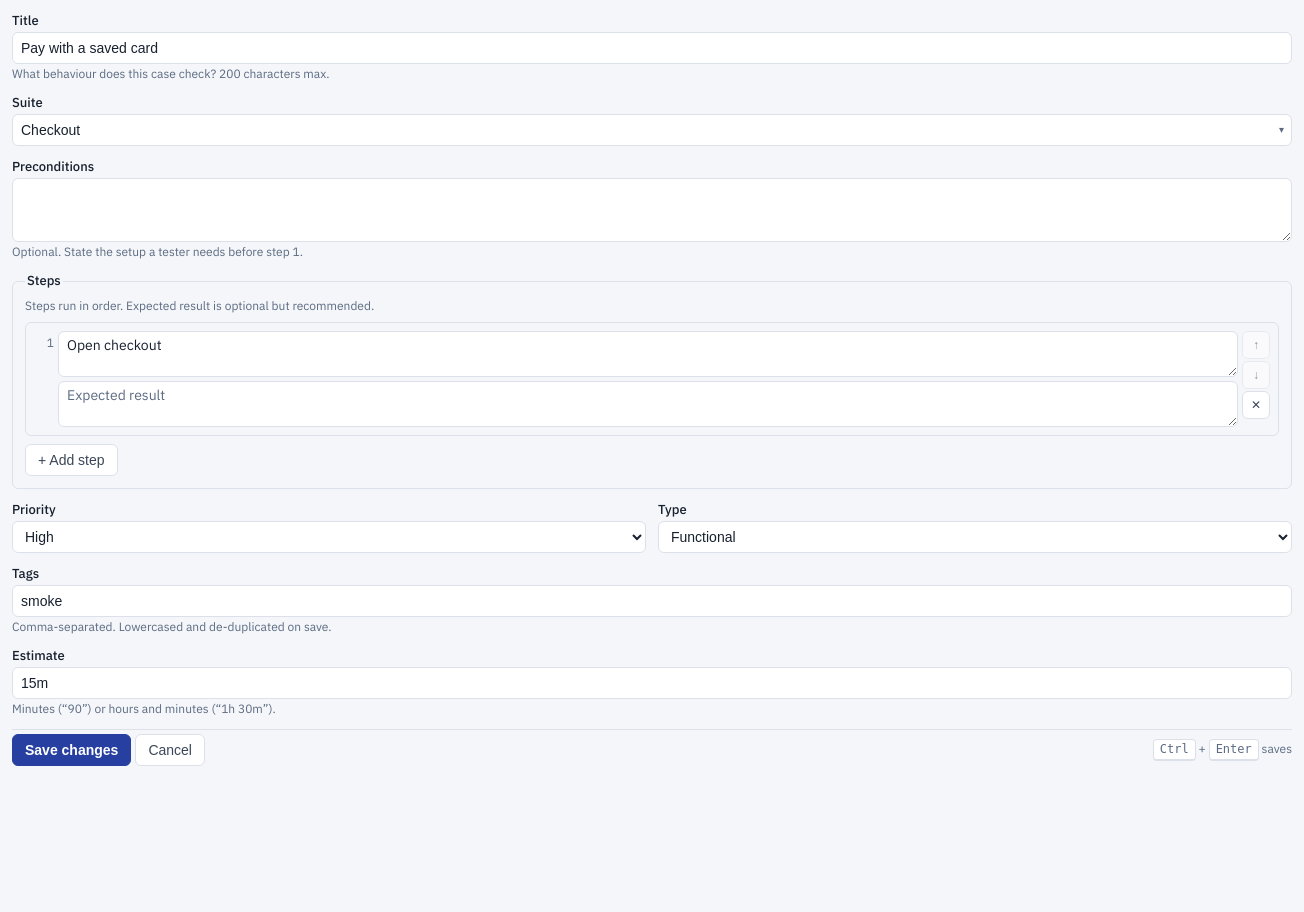
Scenario: CaseEditor › prefills in edit mode and refuses an unchanged save
Check: the field labelled "Title" holds "Pay with a saved card", box [12,32,1292,64]
Check: the field labelled "Tags" holds "smoke", box [12,585,1292,617]
What coordinates should you click on to do the following:
click the button "Save changes"
I would click on:
 (72, 750)
Its box is [12,734,131,766].
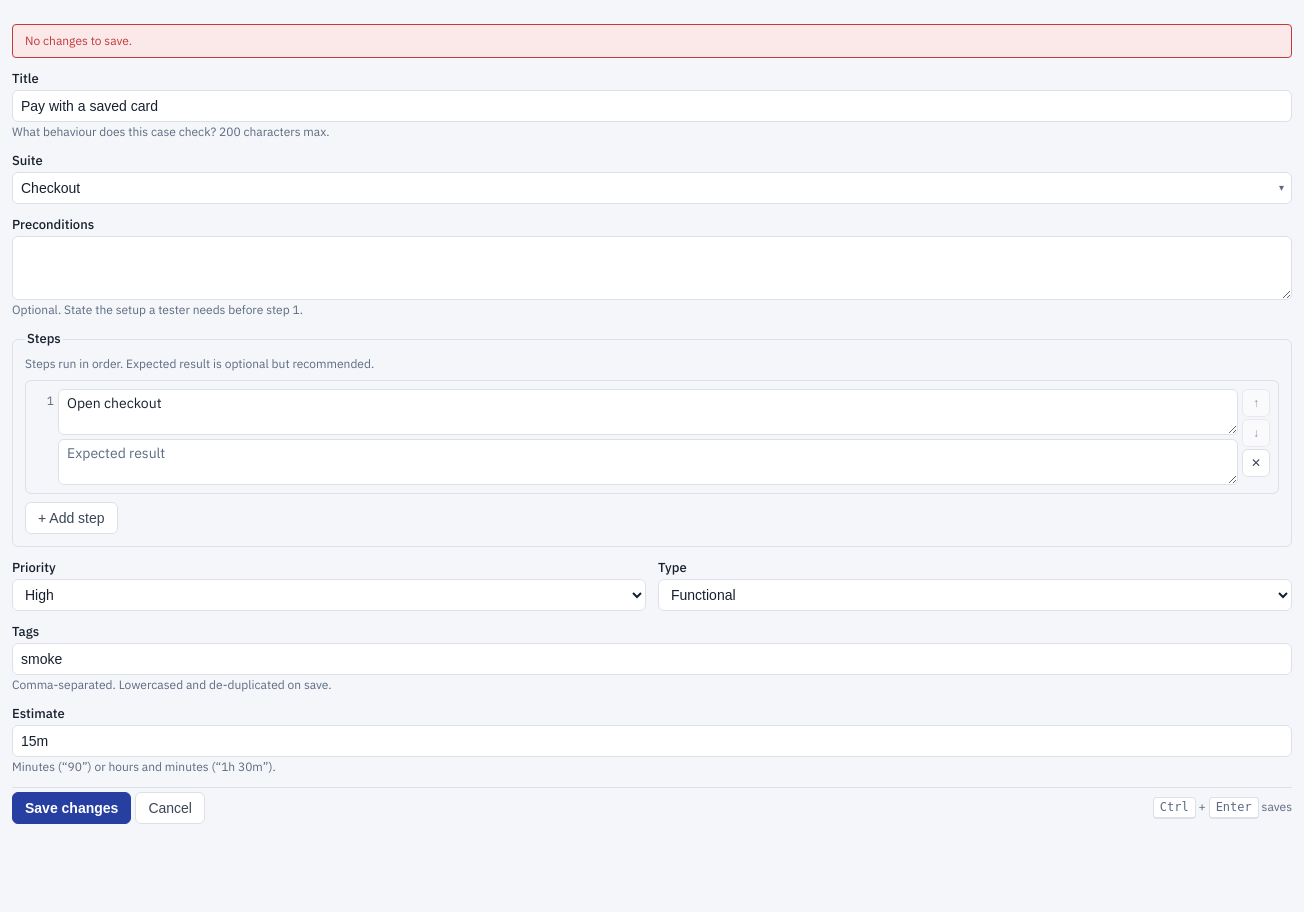
Check: the message reads "No changes to save.", box [25,33,132,48]
